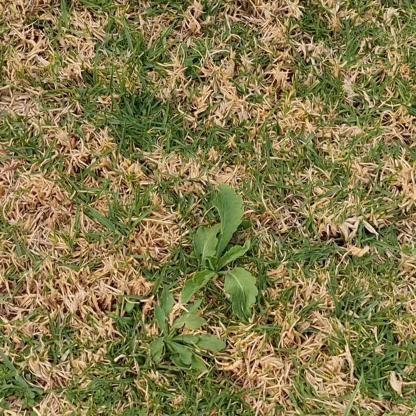Weeds: (177, 185, 260, 322), (142, 286, 227, 385)
